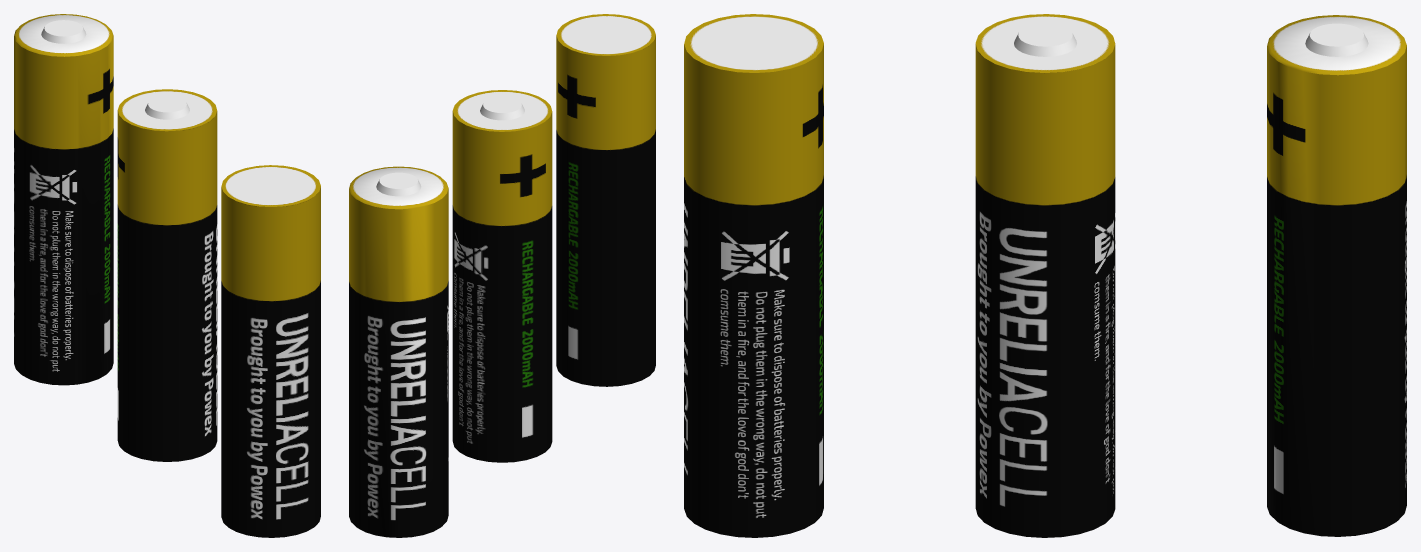
The model's file is uploads_files_4924340_Battery.fbx.
3 renders of one model, left to right at view 1: azimuth 30°, elevation 25°; view 2: azimuth 150°, elevation 25°; view 3: azimuth 270°, elevation 25°, orthographic. The views are drawn at different scales.
Parts seen in each view (by area): view 1: Battery 2, Battery 1, Battery 3; view 2: Battery 2, Battery 1, Battery 3; view 3: Battery 2, Battery 1, Battery 3.
Boxes of the visible parts, x1=… form: Battery 2: x1=117, y1=89, x2=217, y2=461; Battery 1: x1=221, y1=165, x2=320, y2=537; Battery 3: x1=14, y1=14, x2=113, y2=385; Battery 2: x1=452, y1=90, x2=552, y2=462; Battery 1: x1=556, y1=14, x2=655, y2=386; Battery 3: x1=349, y1=166, x2=448, y2=537; Battery 2: x1=975, y1=14, x2=1115, y2=537; Battery 1: x1=684, y1=14, x2=823, y2=537; Battery 3: x1=1267, y1=15, x2=1406, y2=536.
Bounding box in the file's own units: 1.2 × 4.49 × 6.2.
